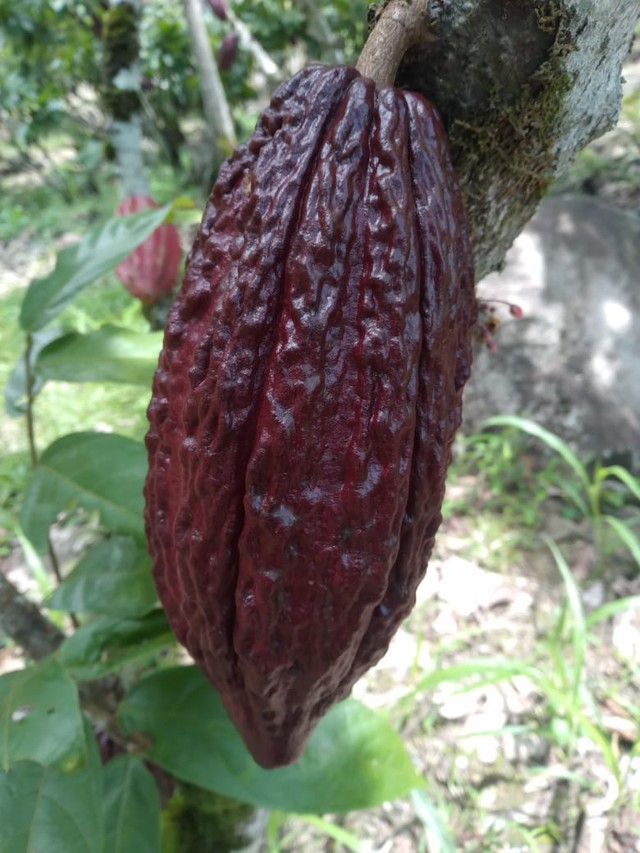Health: (133, 43, 475, 785)
